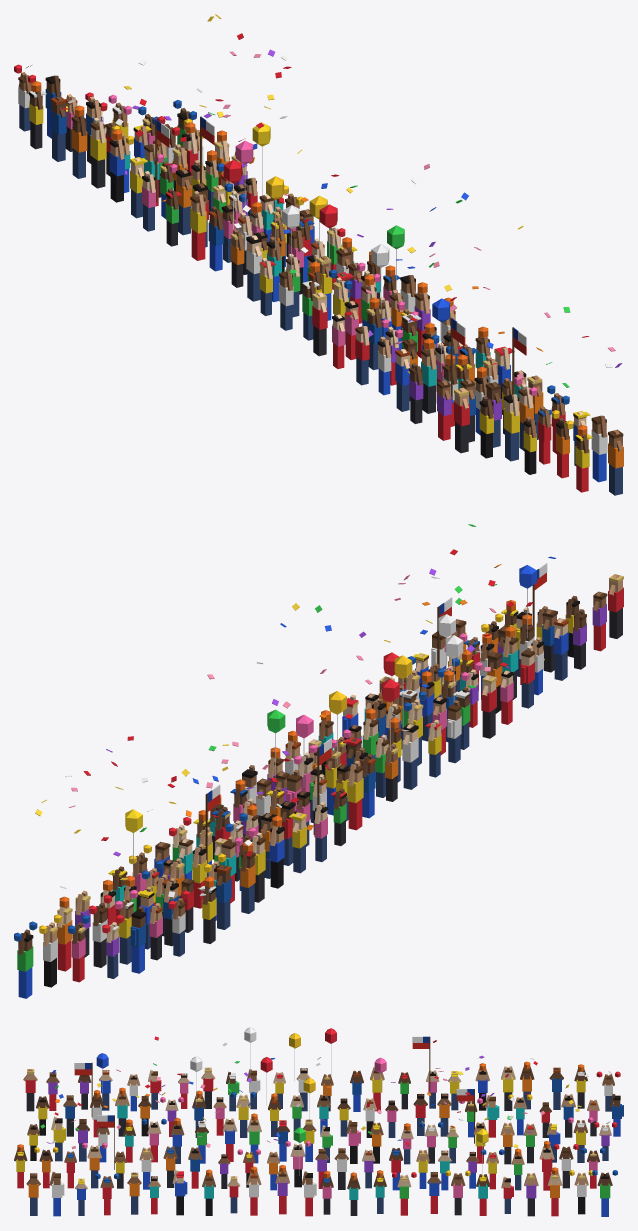
File: ninos_graderia_1.obj
3 views of the same model, one above another, from view 1: azimuth 30°, elevation 25°; view 2: azimuth 150°, elevation 25°; view 3: azimuth 270°, elevation 25° (orthographic). The views are drawn at different scales.
Parts seen in each view (by area): view 1: ninos_graderia_1; view 2: ninos_graderia_1; view 3: ninos_graderia_1.
Boxes of the visible parts, x1,y1,x2,y2 form: ninos_graderia_1: [14, 14, 623, 495]; ninos_graderia_1: [14, 524, 623, 998]; ninos_graderia_1: [14, 1027, 623, 1216].
Bounding box in the file's own units: 4.86 × 4.51 × 18.34.
